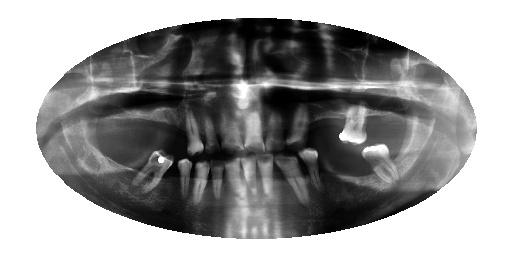i10decay: (199, 103, 223, 158)
i10healthy: (208, 154, 227, 214)
i11chipped: (177, 92, 206, 162)
i11healthy: (188, 155, 211, 212)
i12healthy: (168, 150, 196, 211)
i5healthy: (297, 145, 323, 193)
i6decay: (276, 94, 316, 157)
i6healthy: (270, 147, 313, 213)
i7decay: (263, 98, 286, 154)
i7healthy: (253, 148, 277, 206)
i8chipped: (240, 94, 267, 162)
i8healthy: (241, 150, 260, 210)
i9decay: (213, 98, 246, 160)
i9healthy: (222, 151, 244, 216)
